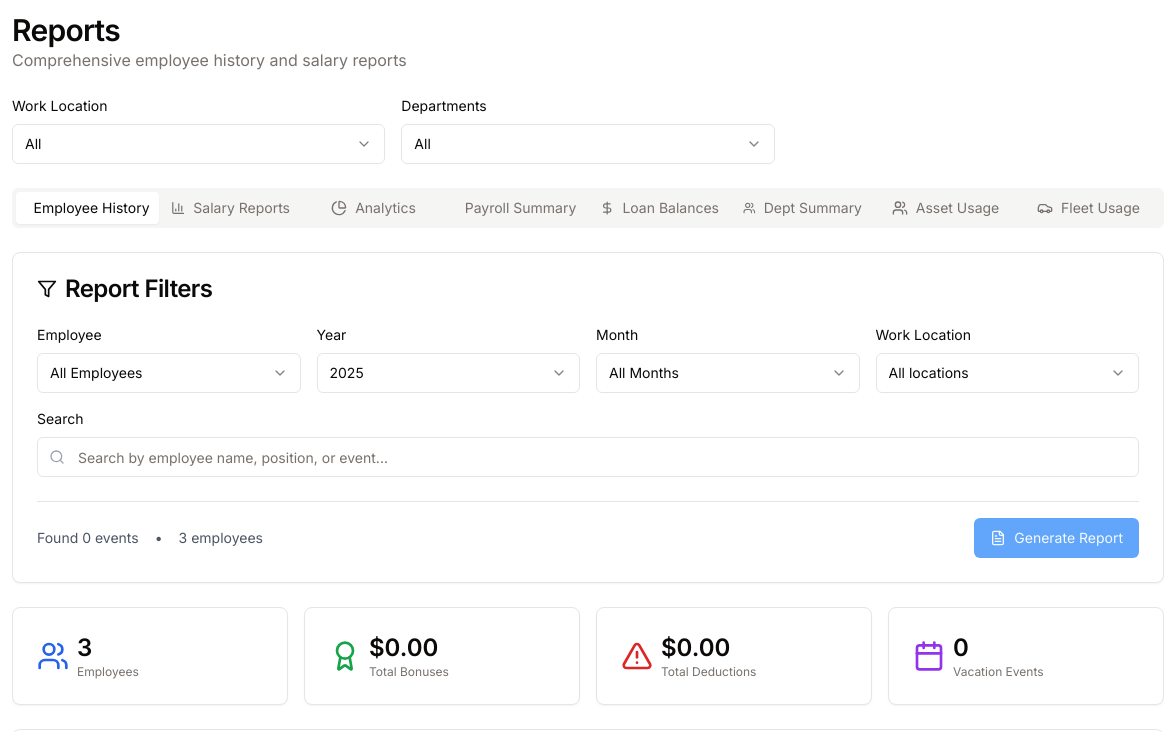
Test case: Reports page - payroll summary totals › renders allowances and bonuses totals in the payroll summary table
This screenshot has width=1164, height=732.
Click the tab "Payroll Summary": (516,208) x1=445 y1=192 x2=588 y2=224
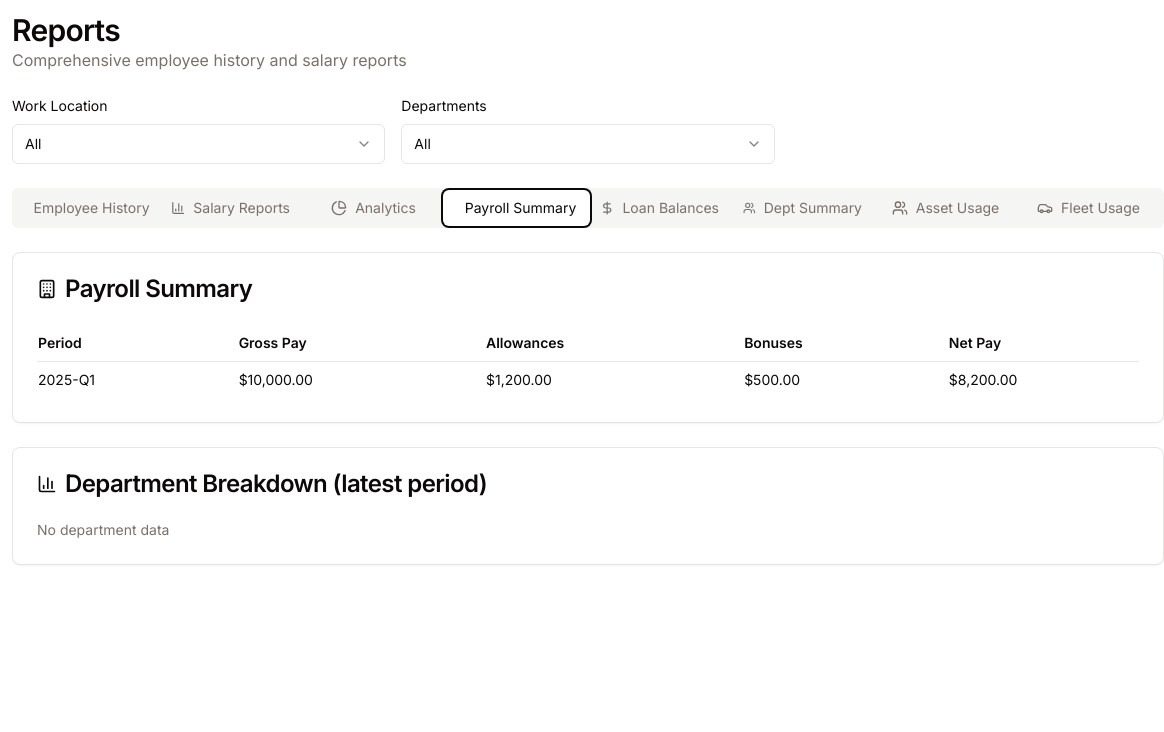
Check: the column heading "Allowances" is shown, box x1=485 y1=325 x2=743 y2=362
